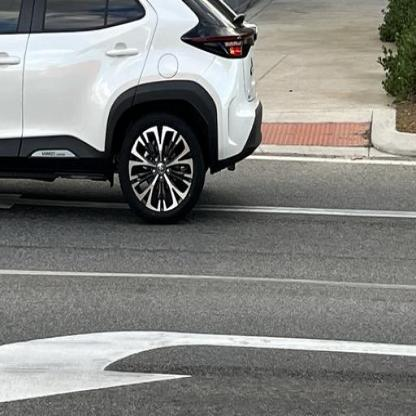Tire: (118, 108, 206, 226)
